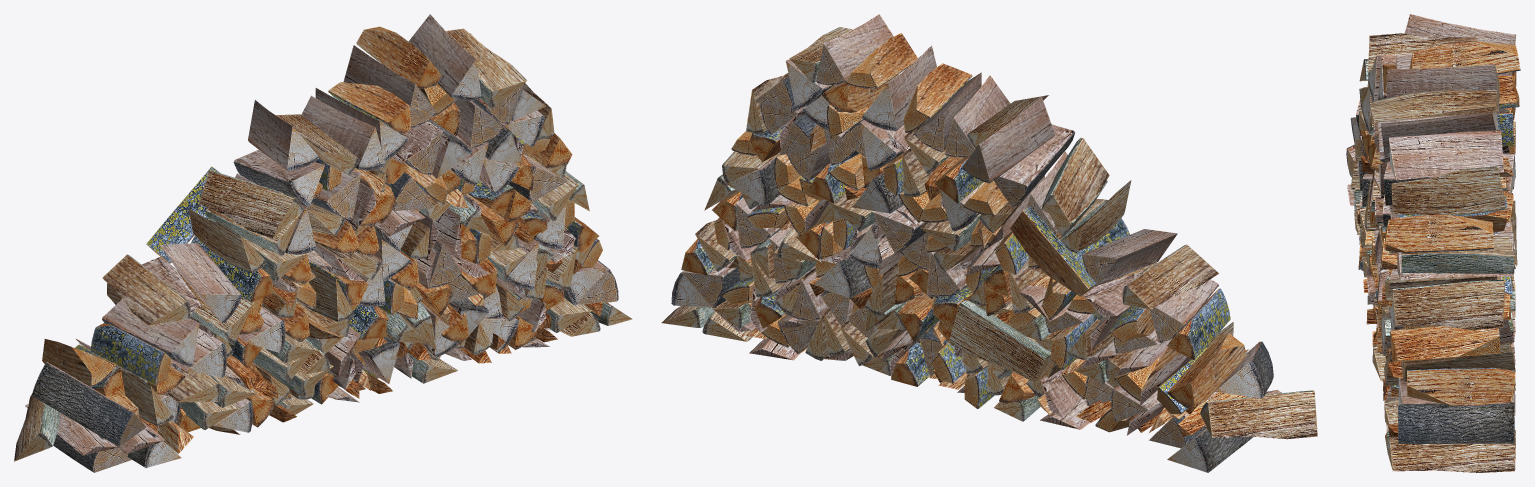
File: FirewoodPoleno_3.FBX
The picture shows the model from 3 angles, left to right: view 1: azimuth 30°, elevation 25°; view 2: azimuth 150°, elevation 25°; view 3: azimuth 270°, elevation 25°; orthographic projection. The views are drawn at different scales.
Parts seen in each view (by area): view 1: FirewoodPoleno_3; view 2: FirewoodPoleno_3; view 3: FirewoodPoleno_3.
Boxes of the visible parts, x1,y1,x2,y2 form: FirewoodPoleno_3: (14, 14, 632, 472); FirewoodPoleno_3: (661, 14, 1317, 472); FirewoodPoleno_3: (1346, 14, 1520, 472).
Size of the model in its own units: 8.46 by 4.36 by 1.97.
